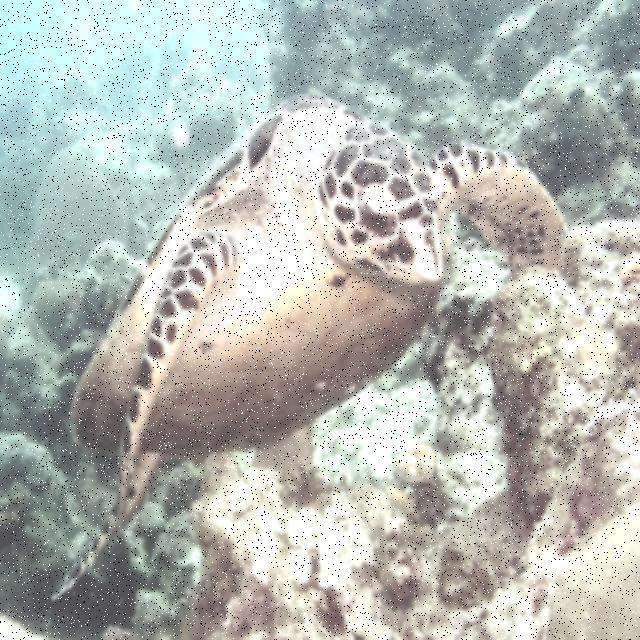tortoise: (62, 94, 580, 514)
